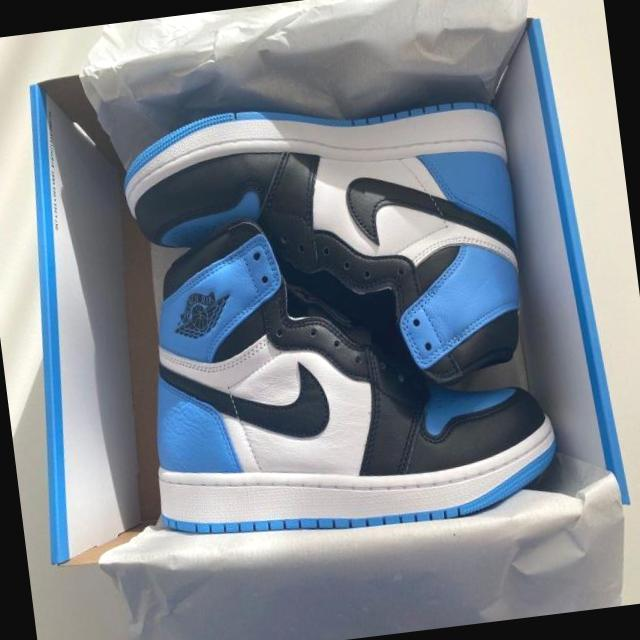nike_original_jordan: (109, 182, 566, 555), (105, 79, 537, 416)
